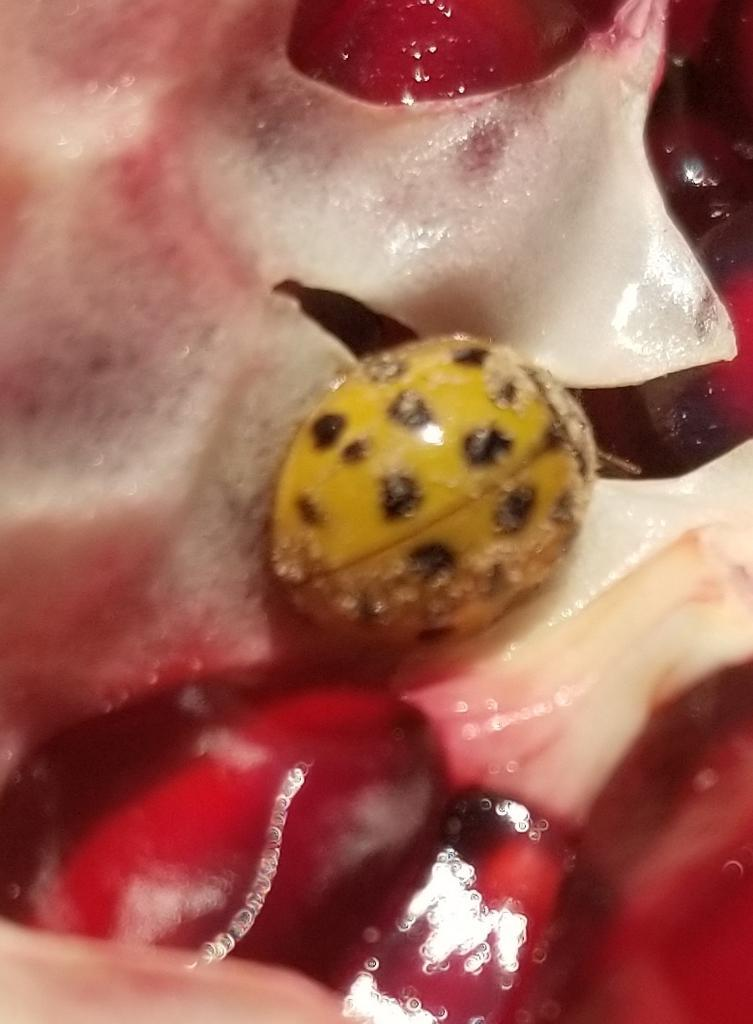ladybug: (264, 329, 649, 659)
